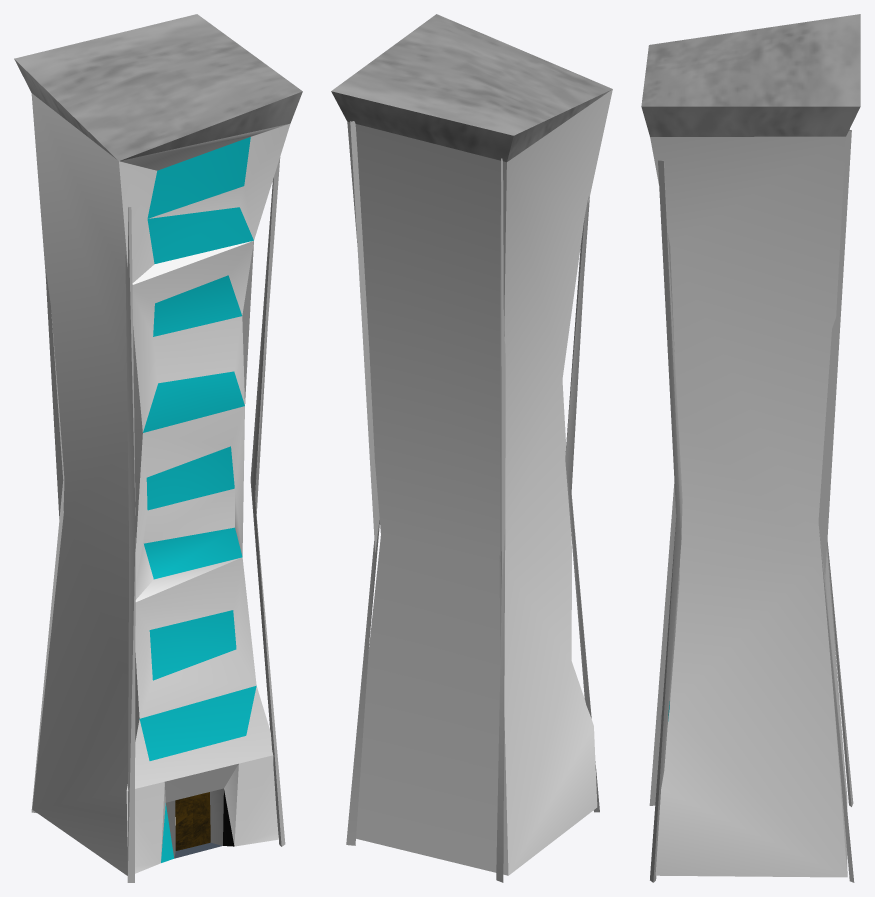
The model's file is PredioAltoFino-BrancoLOD2.fbx.
3 views of the same model, side by side, from view 1: azimuth 30°, elevation 25°; view 2: azimuth 150°, elevation 25°; view 3: azimuth 270°, elevation 25° (orthographic). The views are drawn at different scales.
Visible parts, largest first — view 1: PredioAltoFinoLOD2; view 2: PredioAltoFinoLOD2; view 3: PredioAltoFinoLOD2.
Boxes of the visible parts, box(x1,y1,x2,y2) form: PredioAltoFinoLOD2: box(14, 14, 302, 882); PredioAltoFinoLOD2: box(331, 14, 612, 882); PredioAltoFinoLOD2: box(641, 14, 860, 882).
Bounding box in the file's own units: 635 × 2499 × 635.
